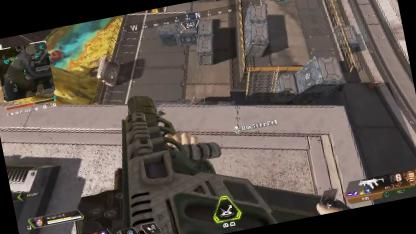Target: (188, 94, 198, 104)
